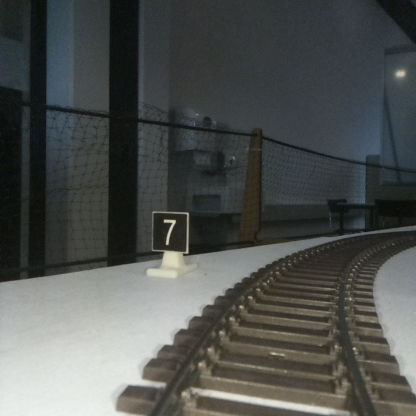black-stop-7: (152, 213, 187, 276)
